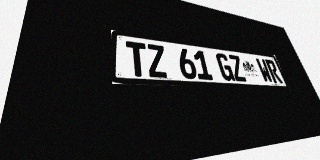1: (192, 50, 213, 80)
6: (176, 48, 198, 79)
G: (215, 53, 235, 81)
R: (265, 59, 283, 83)
T: (126, 41, 149, 77)
W: (255, 58, 274, 83)
Z: (146, 44, 168, 78), (227, 54, 247, 82)
